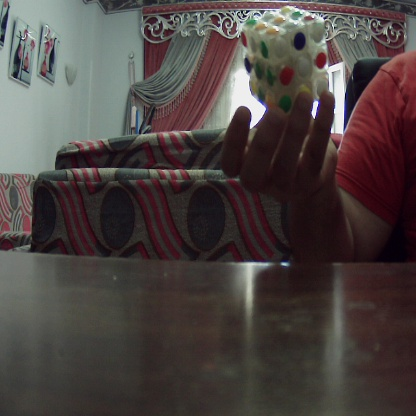Rubix Cube: (245, 4, 328, 106)
